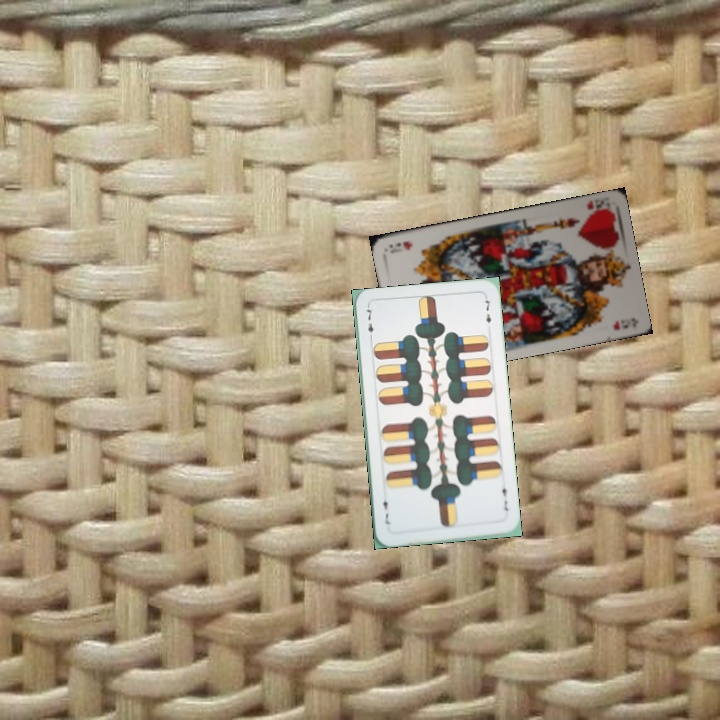E7: (363, 303, 376, 344), (498, 480, 511, 514)
HK: (583, 197, 612, 217)
